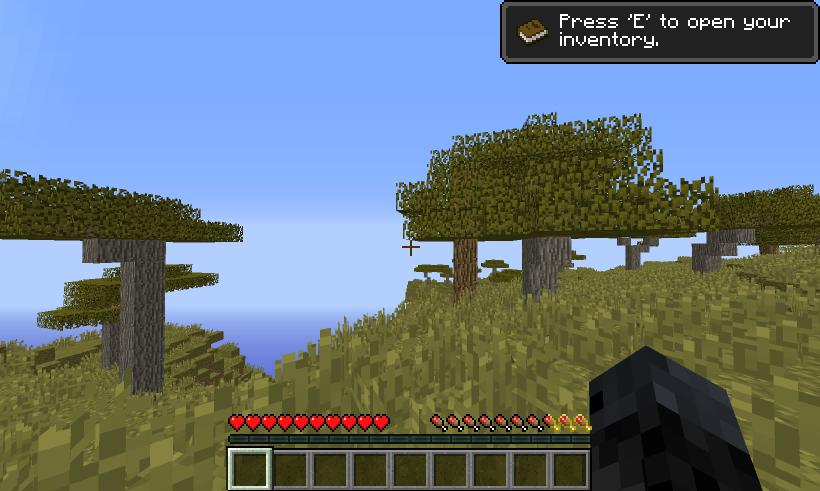minecraft-blocks: (84, 238, 166, 382), (524, 239, 571, 304), (692, 231, 753, 273), (454, 239, 478, 305), (619, 235, 659, 270)
